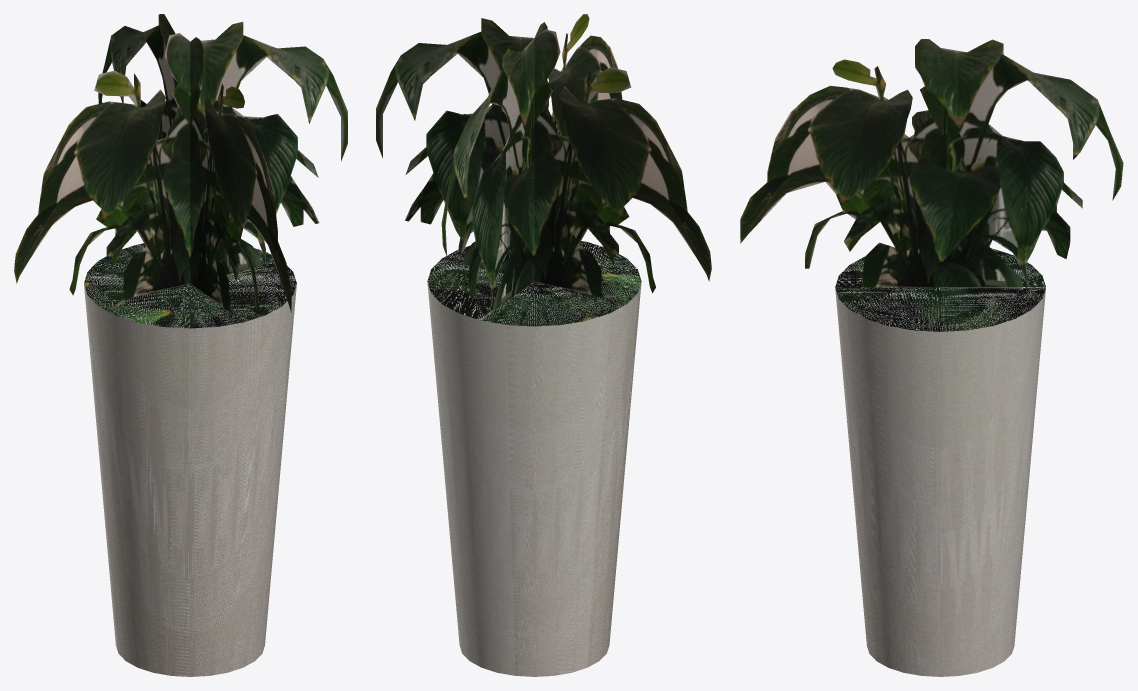
Rendered from large_plant_big.dae.
3 views of the same model, side by side, from view 1: azimuth 30°, elevation 25°; view 2: azimuth 150°, elevation 25°; view 3: azimuth 270°, elevation 25° (orthographic).
Parts seen in each view (by area): view 1: SketchUp (×3); view 2: SketchUp (×3); view 3: SketchUp (×3).
Boxes of the visible parts, x1,y1,x2,y2 form: SketchUp (×3): (14,14,347,676); SketchUp (×3): (376,14,711,676); SketchUp (×3): (740,39,1123,676).
Size of the model in its own units: 0.724 by 0.7265 by 1.27.
Materials: 4 (2 with a texture image).
